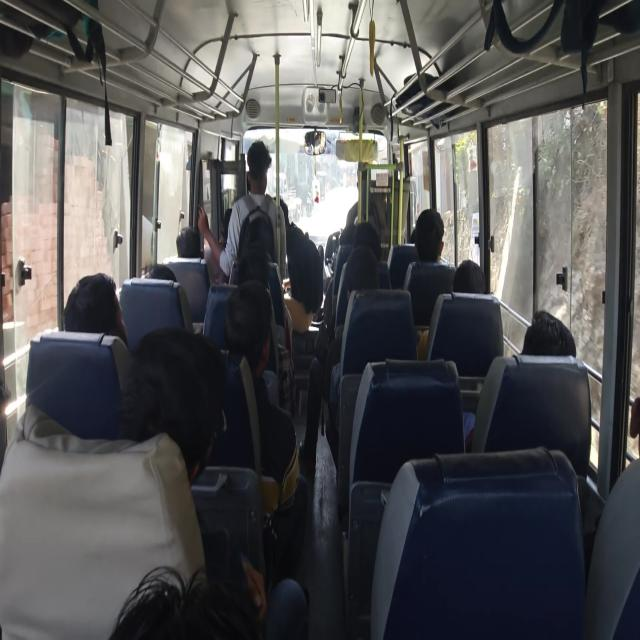person: (118, 325, 308, 638), (222, 279, 308, 572), (109, 550, 308, 639), (118, 325, 227, 485), (463, 309, 576, 450), (197, 139, 287, 284), (417, 258, 486, 359), (63, 272, 128, 348), (282, 223, 324, 333), (402, 208, 454, 290), (521, 309, 576, 357), (412, 208, 447, 264), (452, 259, 486, 293), (176, 226, 201, 258)
